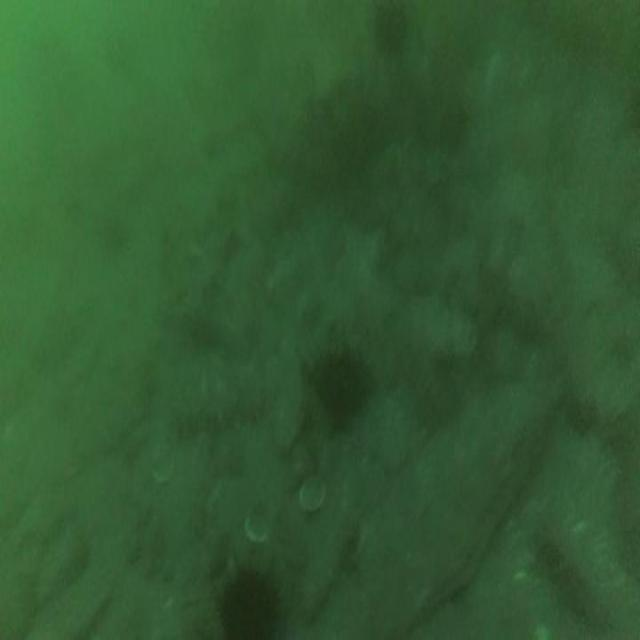echinus: (220, 572, 274, 640), (317, 354, 367, 423), (374, 5, 406, 57)
holothurian: (172, 384, 272, 435)
